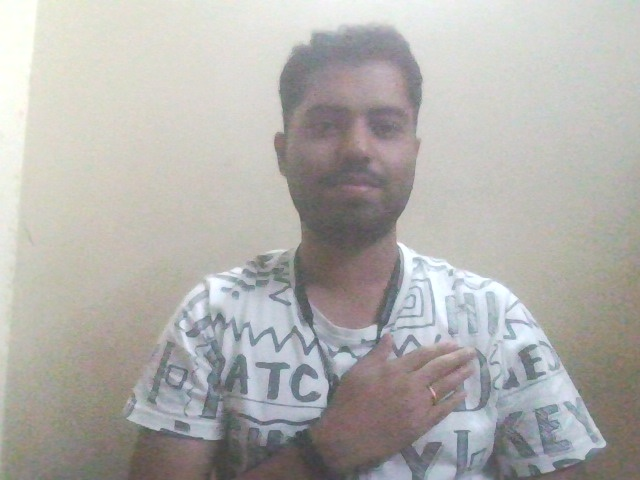T: (308, 312, 481, 466)
